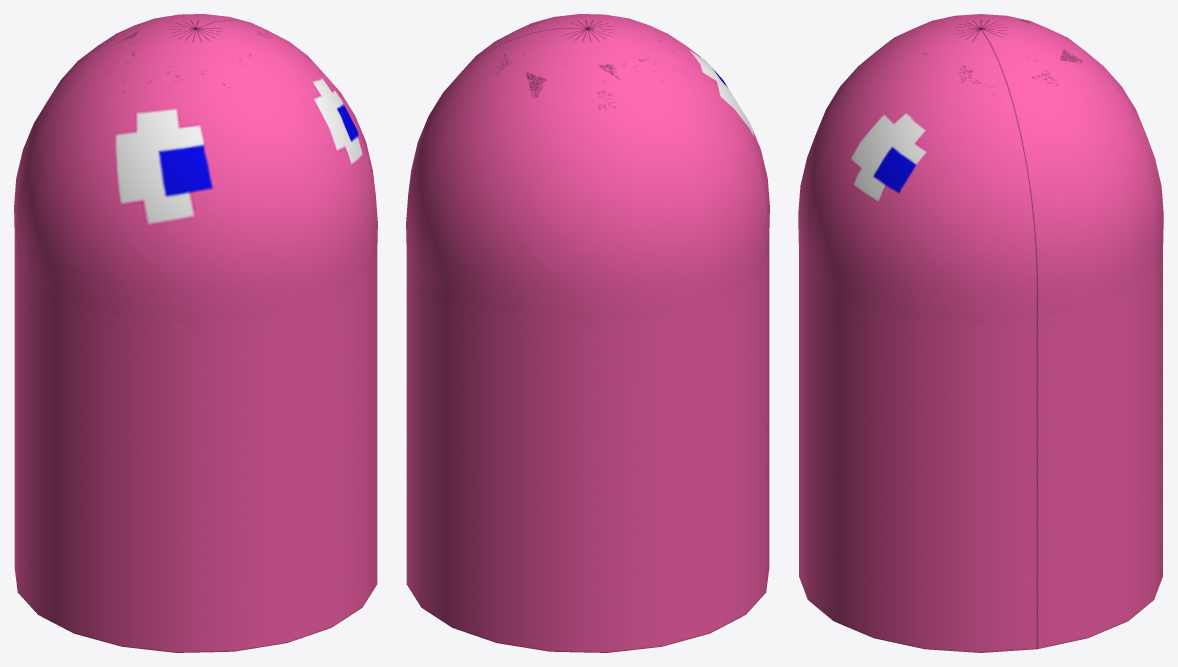
Rendered from ghost.fbx.
3 renders of one model, left to right at view 1: azimuth 30°, elevation 25°; view 2: azimuth 150°, elevation 25°; view 3: azimuth 270°, elevation 25°, orthographic.
Parts seen in each view (by area): view 1: pCylinder2; view 2: pCylinder2; view 3: pCylinder2.
Part boxes in pixels (x1=…): pCylinder2: x1=14, y1=14, x2=377, y2=652; pCylinder2: x1=406, y1=14, x2=769, y2=652; pCylinder2: x1=798, y1=14, x2=1163, y2=652.
Size of the model in its own units: 2.71 by 4.48 by 2.71.
